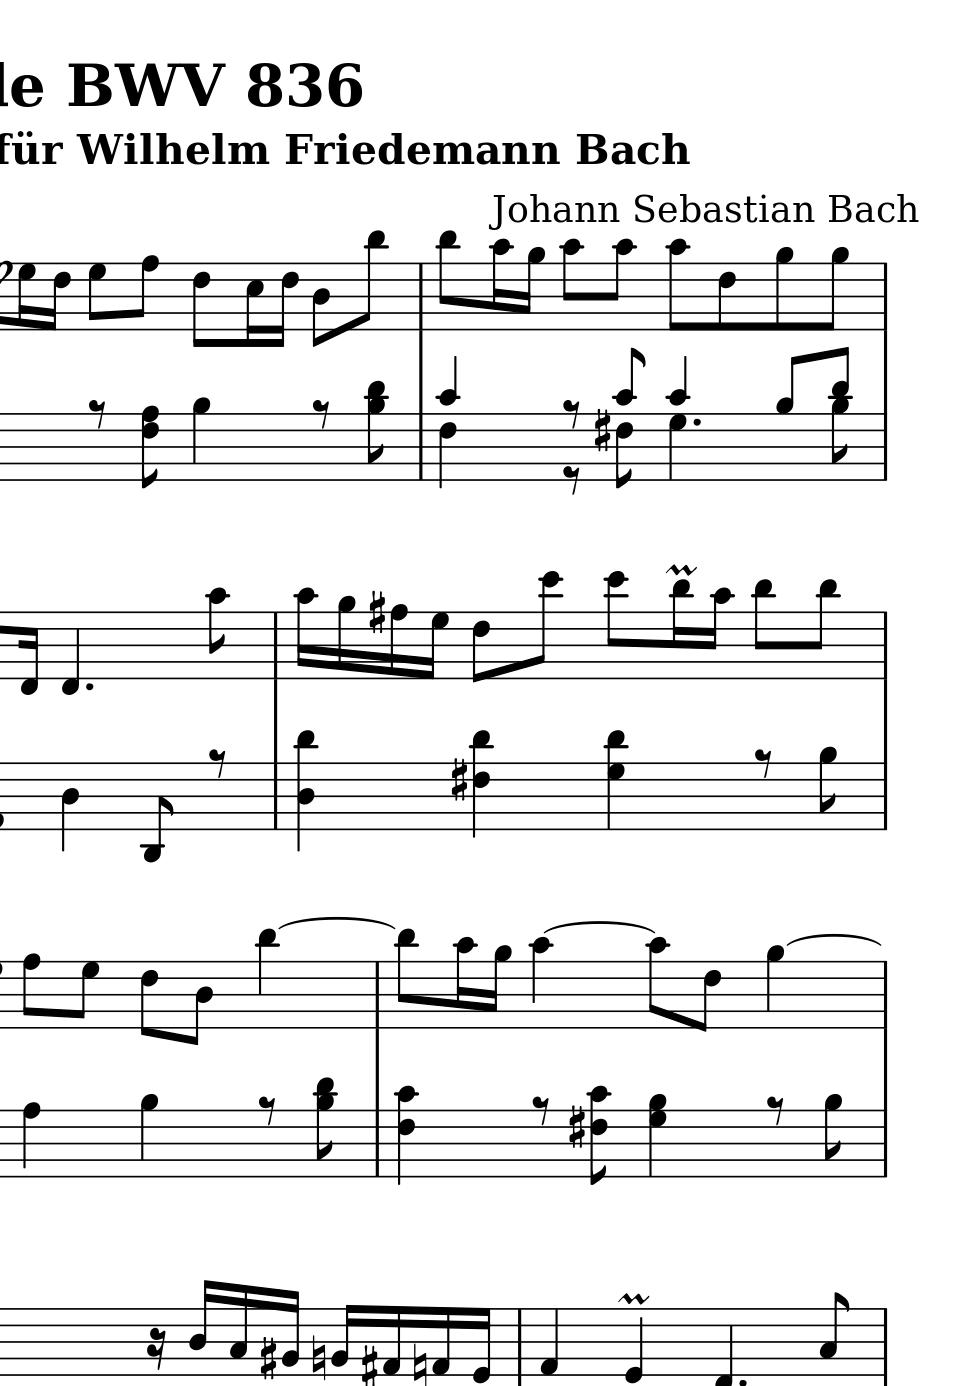16_-1: (17, 609, 39, 696)
16_0: (469, 1306, 492, 1385)
16_1: (430, 1305, 452, 1379), (382, 1303, 402, 1381)
16_10: (705, 585, 735, 681), (452, 934, 476, 1030), (489, 236, 513, 331), (293, 586, 317, 681)
16_11: (668, 576, 694, 681)
16_2: (329, 1302, 356, 1378), (279, 1289, 299, 1376)
16_3: (226, 1282, 249, 1376)
16_4: (187, 1278, 216, 1378)
16_5: (244, 260, 264, 348)
16_6: (272, 260, 298, 349), (43, 261, 71, 333)
16_7: (421, 610, 450, 681), (16, 260, 35, 333)
16_8: (388, 602, 408, 681)
16_9: (485, 943, 513, 1031), (518, 246, 545, 331), (335, 594, 356, 681)
4_-1: (708, 1306, 733, 1386), (58, 609, 81, 696)
4_0: (622, 1306, 644, 1384)
4_1: (538, 1308, 561, 1378)
4_10: (528, 935, 553, 1030)
4_11: (255, 929, 278, 1031)
4_4: (59, 762, 80, 855)
4_4_11: (292, 729, 318, 854)
4_6_10: (437, 355, 461, 490), (393, 1084, 420, 1186)
4_6_11: (468, 729, 494, 838)
4_7_10: (666, 355, 693, 483)
4_7_11: (603, 729, 628, 831)
4_7_9: (648, 1092, 669, 1180)
4_8: (19, 1100, 42, 1179)
4_9: (190, 394, 212, 483), (138, 1092, 160, 1179), (764, 944, 785, 1030)
8_-3: (140, 761, 173, 864)
8_10: (605, 236, 635, 332), (666, 238, 692, 333), (559, 236, 583, 331), (206, 586, 229, 681), (646, 936, 669, 1031)
8_11: (353, 229, 386, 333), (807, 578, 839, 682), (750, 578, 775, 680), (395, 927, 419, 1030), (436, 229, 459, 331)
8_12: (526, 569, 562, 681), (603, 569, 629, 681)
8_3: (817, 1291, 848, 1378)
8_4: (186, 959, 214, 1047), (310, 261, 331, 348)
8_6: (696, 959, 722, 1033), (191, 261, 212, 350), (138, 959, 160, 1040), (716, 261, 737, 333), (470, 610, 490, 685)
8_6_10: (613, 344, 648, 492), (585, 1084, 608, 1185)
8_6_8: (139, 404, 161, 489)
8_7: (71, 959, 99, 1030), (86, 261, 107, 332)
8_8: (129, 255, 159, 332), (20, 952, 42, 1031)
8_9: (774, 352, 803, 483), (817, 246, 850, 332), (772, 246, 795, 333), (817, 745, 838, 832), (822, 1093, 843, 1180)
8_9_11: (829, 345, 854, 483), (313, 1076, 339, 1180), (363, 381, 388, 483)
Natural: (310, 1334, 327, 1383), (412, 1340, 427, 1386)
Rests16: (144, 1326, 168, 1373)
Rests8: (561, 463, 584, 496), (86, 396, 108, 429), (764, 1093, 786, 1127), (752, 747, 774, 779), (529, 1093, 550, 1127), (207, 747, 227, 780), (310, 397, 330, 429), (561, 397, 581, 429), (256, 1094, 276, 1126)
Sharp: (367, 589, 386, 636), (449, 756, 468, 803), (567, 1105, 587, 1152), (592, 407, 610, 453), (259, 1336, 277, 1382), (360, 1343, 378, 1386)
ShortTrill: (615, 1289, 651, 1308), (663, 561, 699, 577)
Single_barline: (510, 1309, 528, 1376), (876, 961, 893, 1029), (369, 1110, 386, 1177), (267, 764, 284, 829), (876, 1308, 892, 1378), (413, 264, 428, 331), (413, 413, 428, 479), (369, 962, 385, 1028), (267, 613, 283, 678), (877, 263, 892, 330), (877, 764, 892, 830), (877, 1110, 892, 1177), (877, 613, 892, 678), (877, 414, 891, 480)
Slur: (276, 918, 400, 931), (781, 932, 887, 947), (545, 922, 661, 934)
dot: (83, 680, 95, 692), (690, 416, 702, 428), (736, 1376, 749, 1386)
